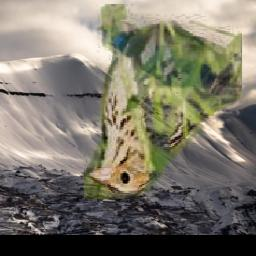Sparrow: (85, 5, 243, 200)
